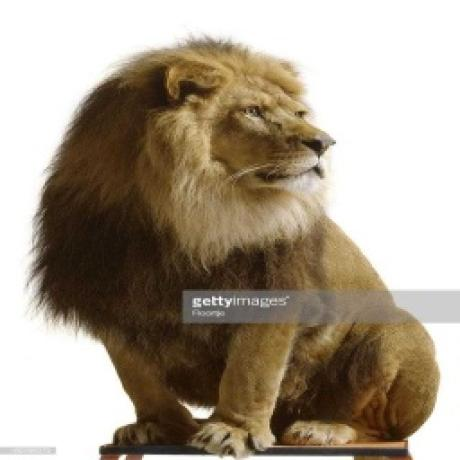Lion: (28, 32, 443, 454)
